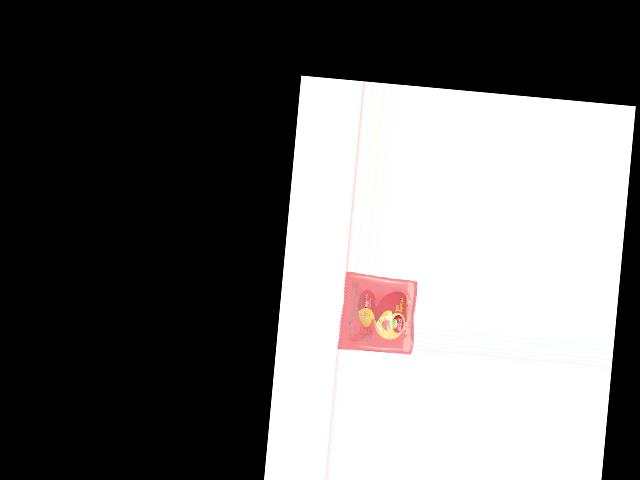cheese: (336, 274, 418, 356)
